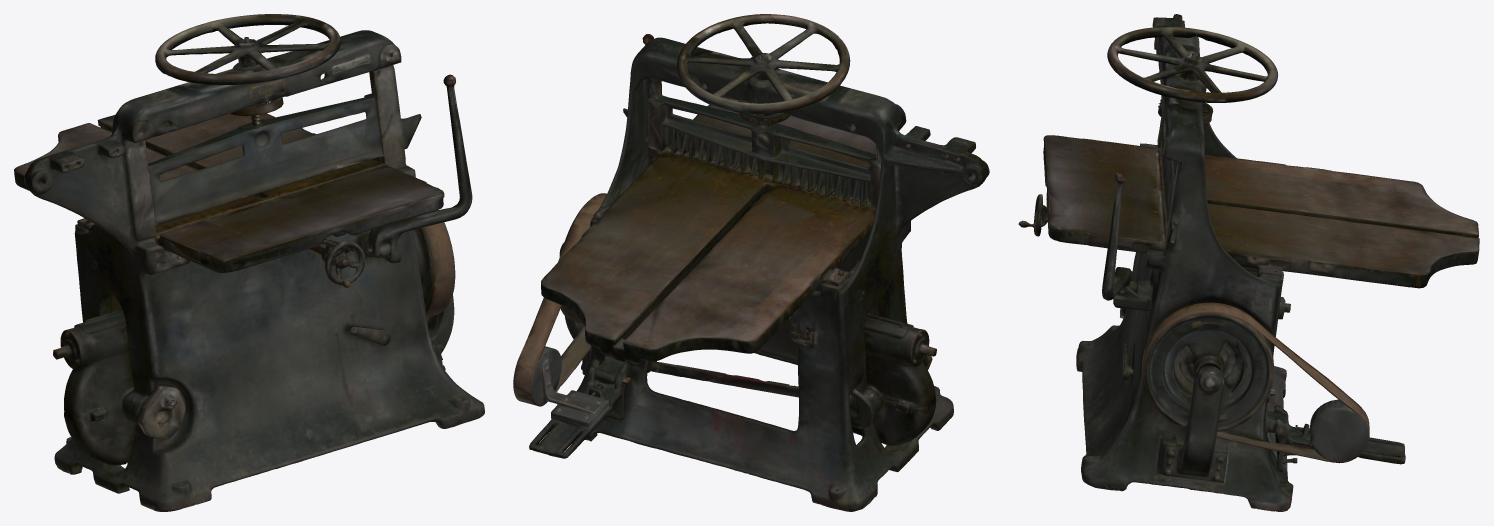
Rendered from museum_press.glb.
3 views of the same model, side by side, from view 1: azimuth 30°, elevation 25°; view 2: azimuth 150°, elevation 25°; view 3: azimuth 270°, elevation 25° (orthographic). The views are drawn at different scales.
Size of the model in its own units: 1650 by 1552 by 1636.
1 material, 1 textured.
